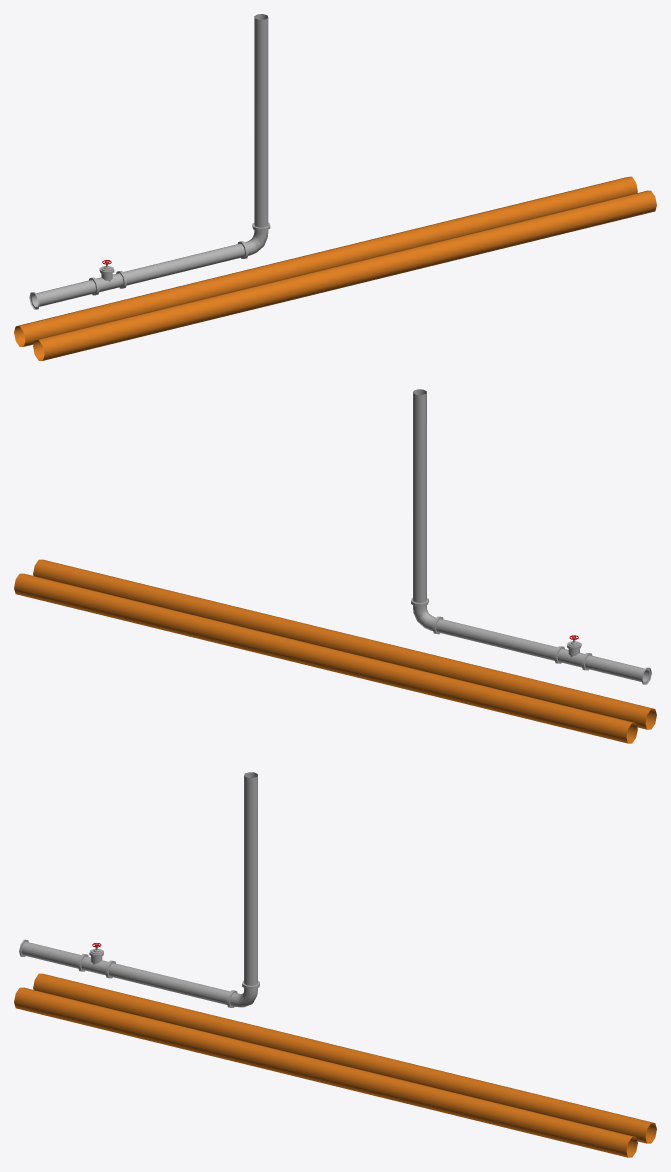
The model's file is SM_H_Building_Tide_Ventilate_04h_ATLAS.fbx.
3 views of the same model, one above another, from view 1: azimuth 30°, elevation 25°; view 2: azimuth 150°, elevation 25°; view 3: azimuth 330°, elevation 25° (orthographic).
Parts seen in each view (by area): view 1: SM_H_Building_Tide_Ventilate_04h_ATLAS; view 2: SM_H_Building_Tide_Ventilate_04h_ATLAS; view 3: SM_H_Building_Tide_Ventilate_04h_ATLAS.
Boxes of the visible parts, box(x1,y1,x2,y2) form: SM_H_Building_Tide_Ventilate_04h_ATLAS: box(14, 14, 656, 360); SM_H_Building_Tide_Ventilate_04h_ATLAS: box(14, 389, 656, 743); SM_H_Building_Tide_Ventilate_04h_ATLAS: box(14, 772, 656, 1157).
Size of the model in its own units: 2476 by 214 by 1102.
